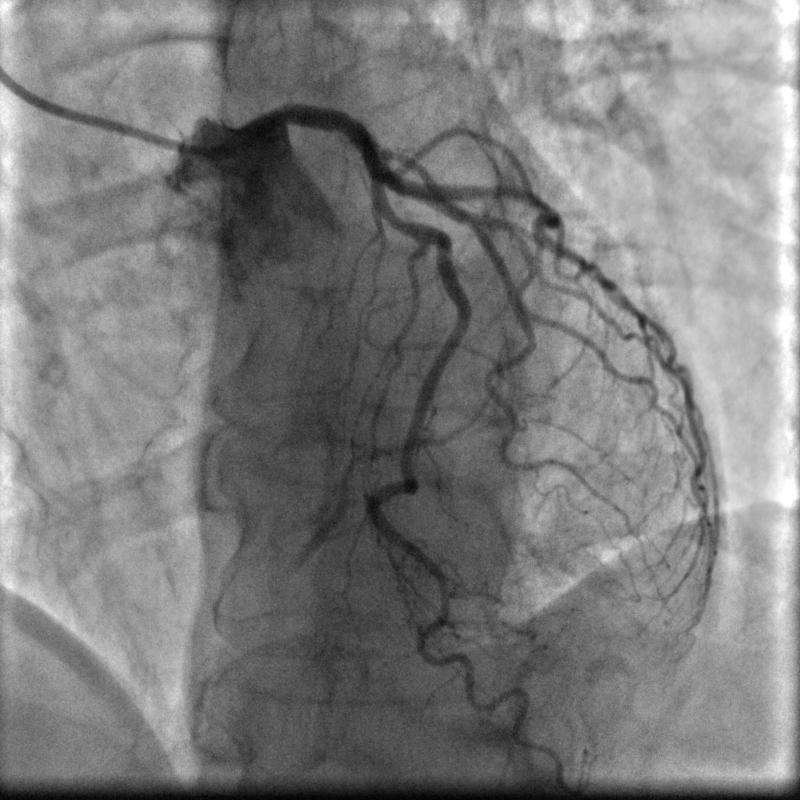Stenosis: (379, 204, 415, 227)
